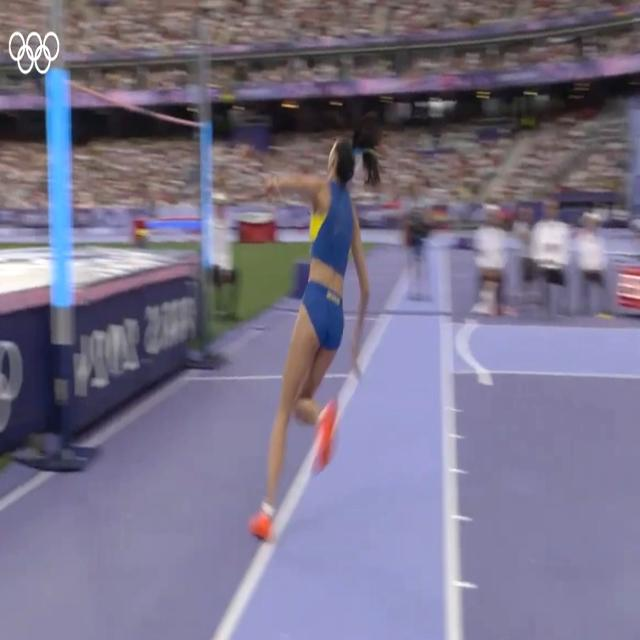run: (246, 137, 381, 544)
